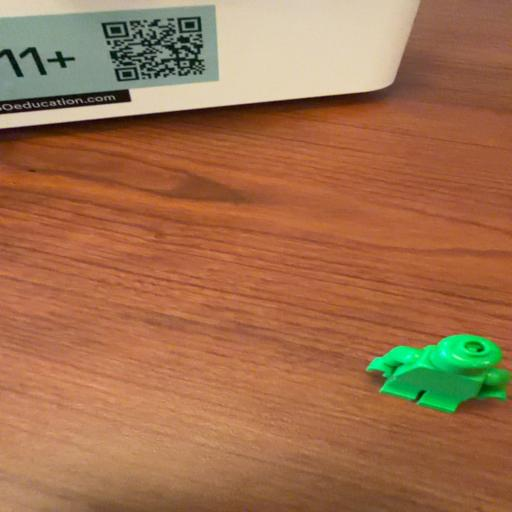UnoQ-minifig-detector: (366, 334, 512, 413)
